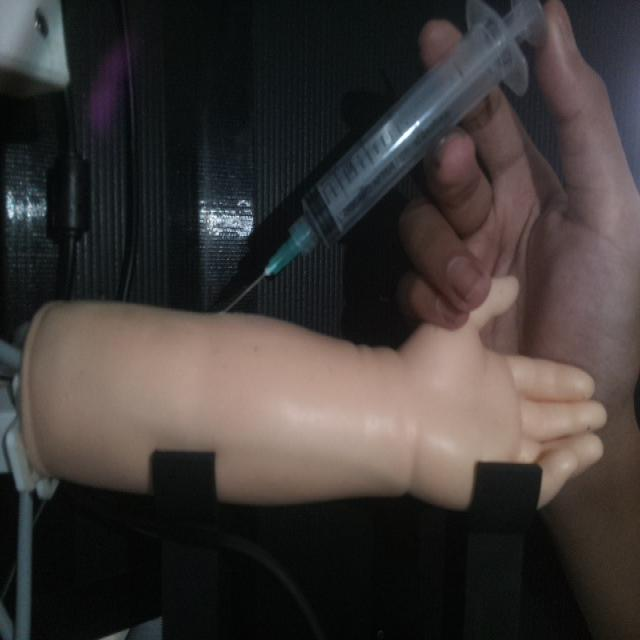Outside: (212, 0, 548, 315)
